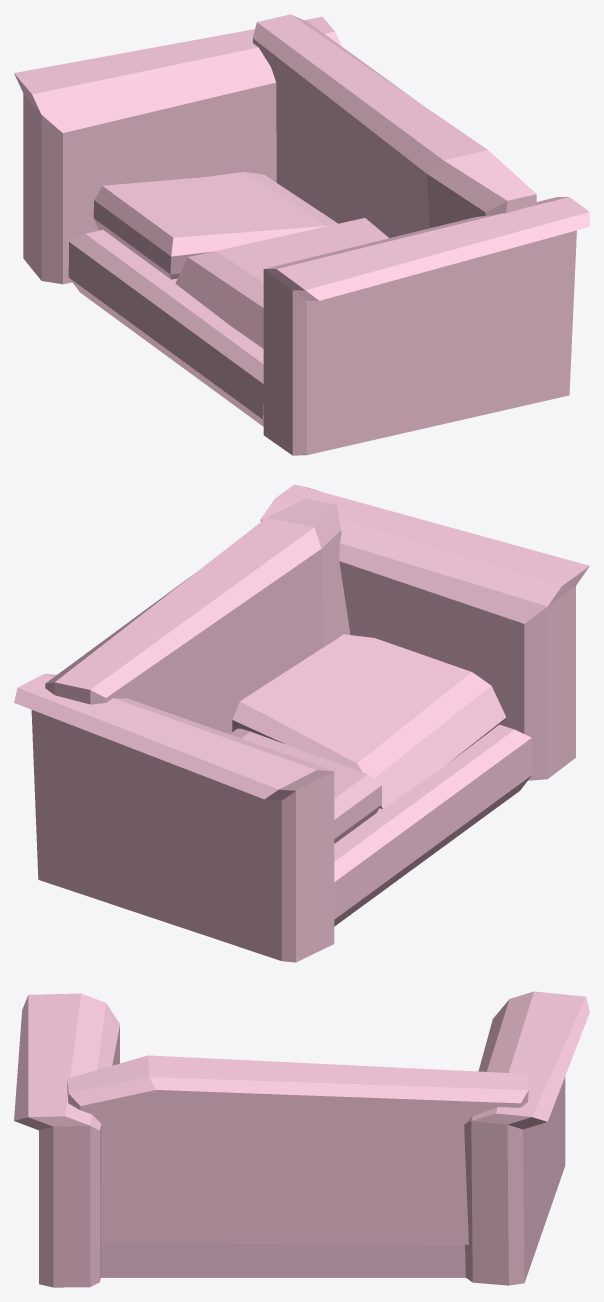
Rendered from frontCouchpink.FBX.
3 views of the same model, one above another, from view 1: azimuth 30°, elevation 25°; view 2: azimuth 150°, elevation 25°; view 3: azimuth 270°, elevation 25° (orthographic). The views are drawn at different scales.
Parts seen in each view (by area): view 1: frontCouch_pink; view 2: frontCouch_pink; view 3: frontCouch_pink.
Part boxes in pixels (x1=…): frontCouch_pink: x1=14, y1=14, x2=589, y2=455; frontCouch_pink: x1=14, y1=484, x2=589, y2=962; frontCouch_pink: x1=14, y1=991, x2=589, y2=1287.
Bounding box in the file's own units: 96.98 × 67.86 × 175.
